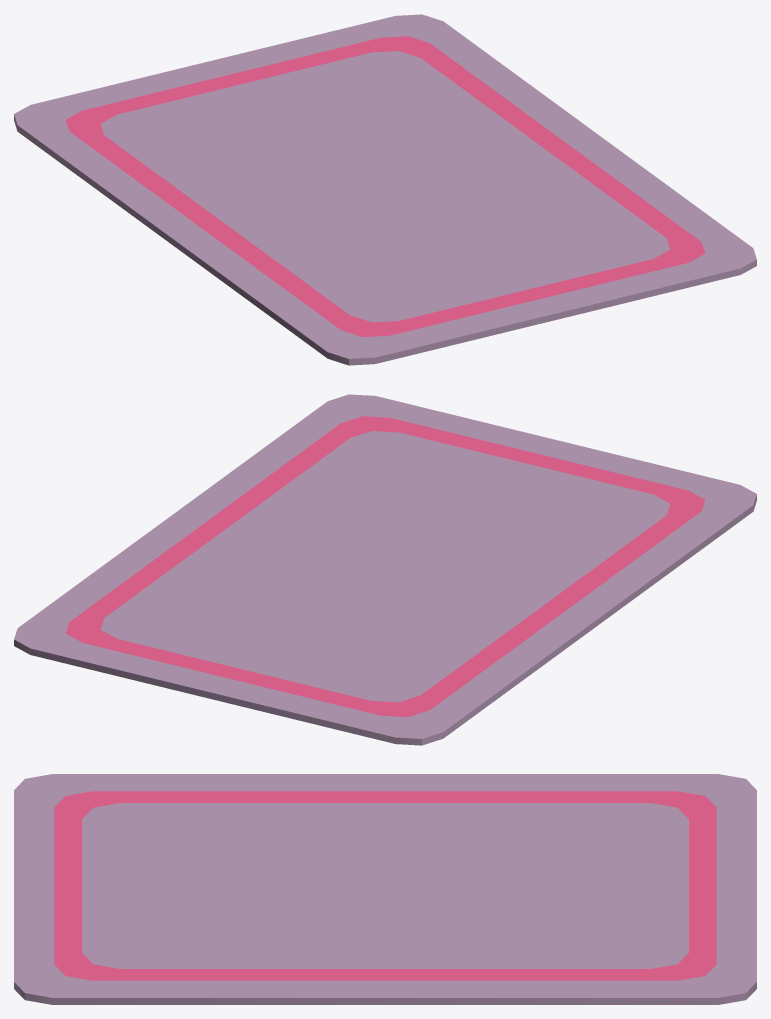
3 renders of one model, top to bottom at view 1: azimuth 30°, elevation 25°; view 2: azimuth 150°, elevation 25°; view 3: azimuth 270°, elevation 25°, orthographic. The views are drawn at different scales.
Parts seen in each view (by area): view 1: Mat; view 2: Mat; view 3: Mat.
Part boxes in pixels (box(x1,y1,x2,y2)): Mat: box(14, 14, 756, 365); Mat: box(14, 394, 756, 745); Mat: box(14, 774, 756, 1004).
Size of the model in its own units: 126 by 1.85 by 177.
